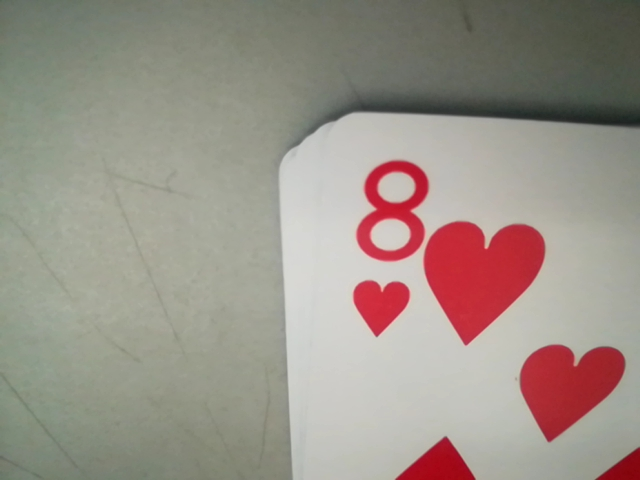hx 8: (343, 158, 427, 340)
